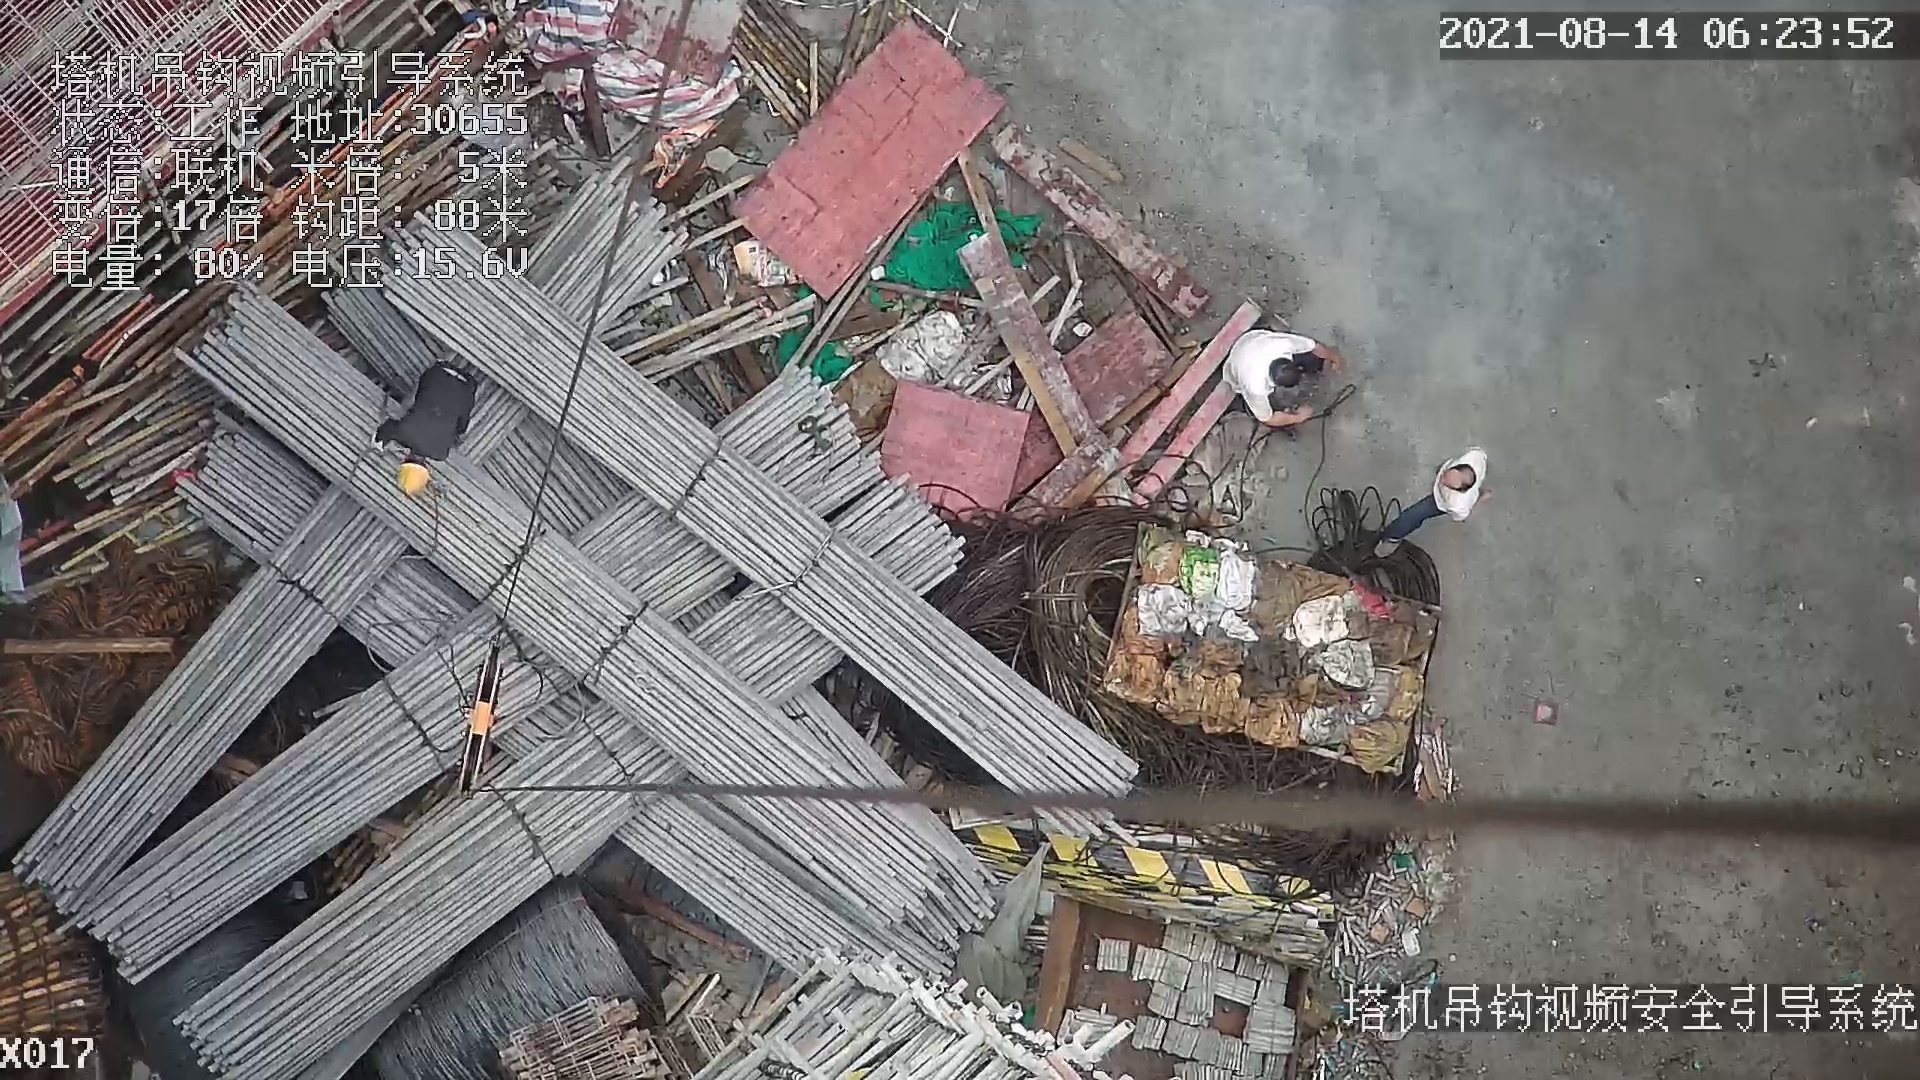helmet: (397, 462, 429, 492)
hook: (459, 635, 514, 803)
person: (369, 364, 474, 503), (1369, 442, 1492, 555), (1220, 323, 1342, 426)
rebar: (183, 287, 940, 923), (404, 283, 1138, 842), (171, 699, 689, 1080), (73, 607, 577, 983), (12, 487, 402, 911)
wood: (1, 872, 113, 1035)
